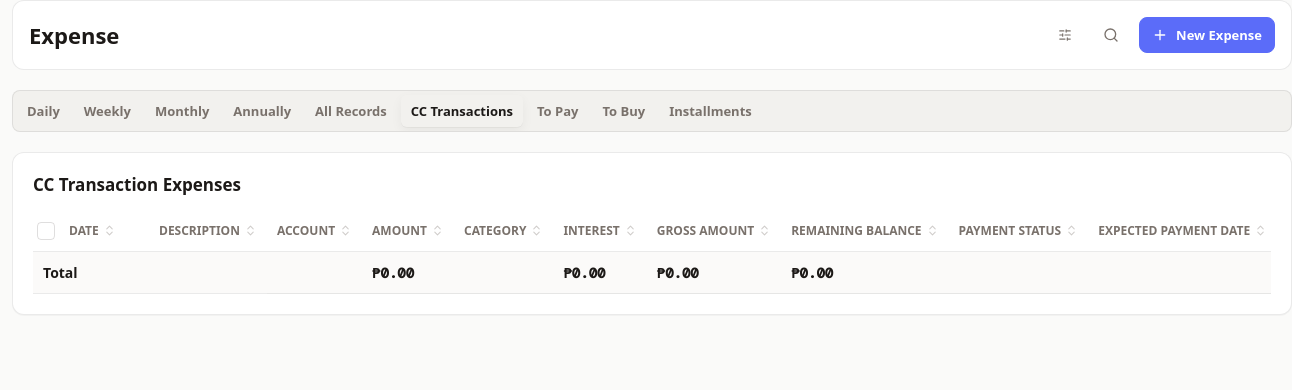
Scenario: CC Transaction Weekly passes matching purchase-date bounds
This screenshot has width=1292, height=390.
Click the button named "Filters".
click(1065, 35)  # box [1047,19,1083,51]
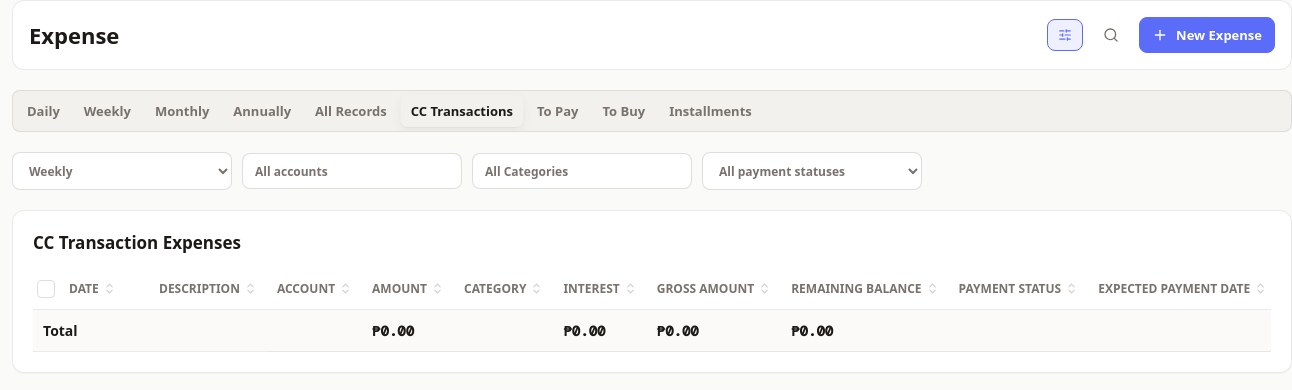
Result: the dropdown named "CC Transaction period" shows "Weekly" at [12,152,232,190]
